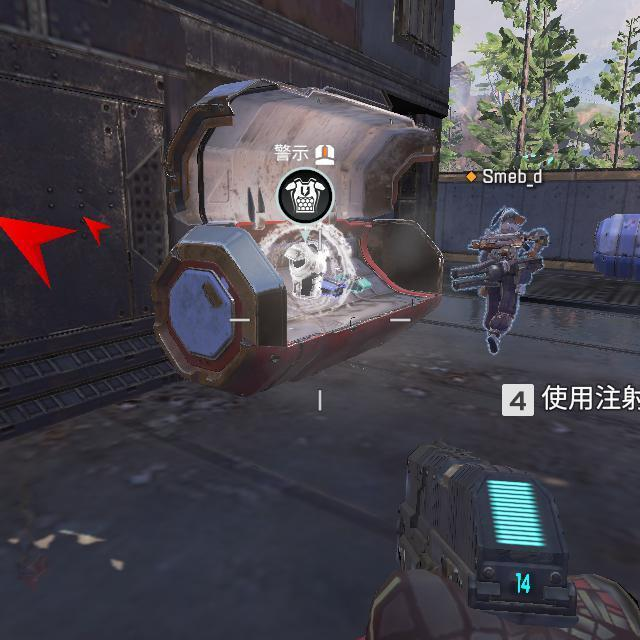avatar: (476, 202, 530, 355)
